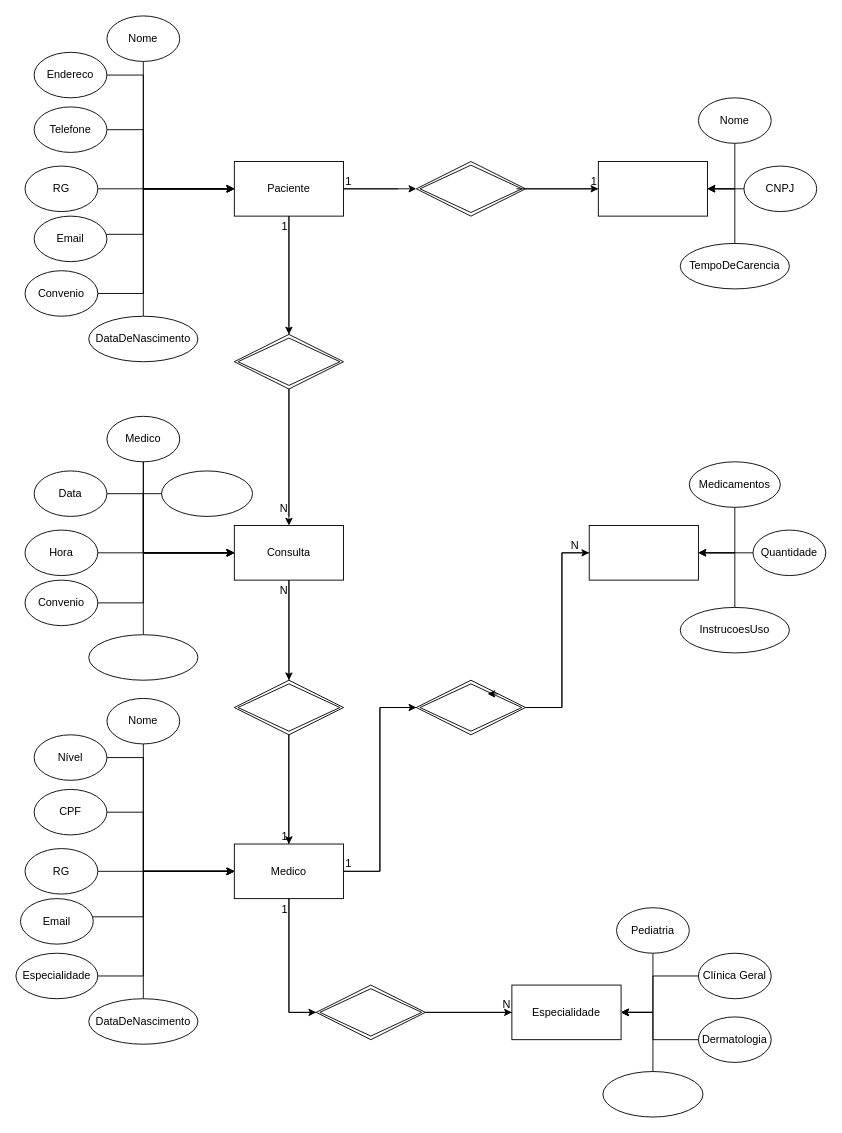
The diagram is 842 pixels wide and 1133 high, and some of its shapes have lost their labels. The shapes that lost their labels are listed below. From the top down, each one's centre as x and y in pixels, then its label:
the point at 470,188: Possui
the point at 652,188: Convênio
the point at 288,361: Participa
the point at 207,493: PacienteAtendido
the point at 643,552: Receita
the point at 143,657: ValorConsulta
the point at 288,707: Atende
the point at 470,707: Prescreve
the point at 370,1012: Especializa
the point at 652,1094: Gastroenterologia
